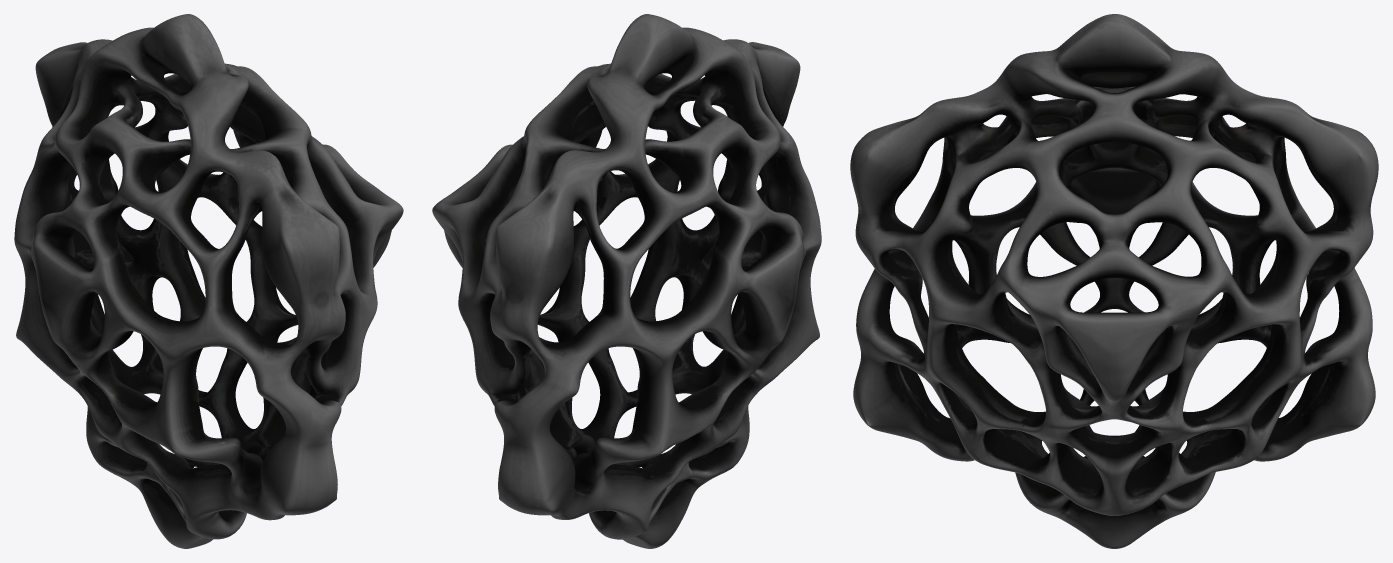
File: core.glb
3 views of the same model, side by side, from view 1: azimuth 30°, elevation 25°; view 2: azimuth 150°, elevation 25°; view 3: azimuth 270°, elevation 25° (orthographic).
Visible parts, largest first — view 1: tripo_node_032536ea-8557-4b40-bbc2-f846b6852219; view 2: tripo_node_032536ea-8557-4b40-bbc2-f846b6852219; view 3: tripo_node_032536ea-8557-4b40-bbc2-f846b6852219.
Boxes of the visible parts, x1,y1,x2,y2 form: tripo_node_032536ea-8557-4b40-bbc2-f846b6852219: (14,14,403,548); tripo_node_032536ea-8557-4b40-bbc2-f846b6852219: (432,14,821,548); tripo_node_032536ea-8557-4b40-bbc2-f846b6852219: (850,14,1378,548).
Bounding box in the file's own units: 0.6756 × 1 × 0.9105.
Materials: 1 (1 with a texture image).
